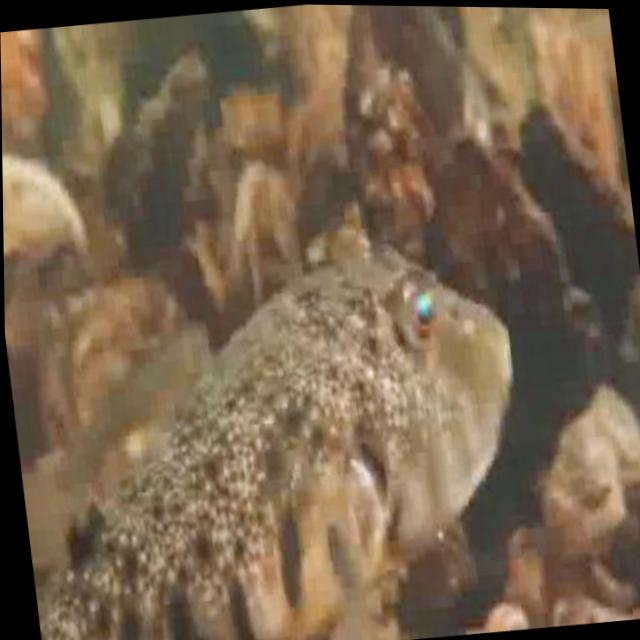Oyster-Closed: (40, 273, 188, 439)
Oyster-Indeterminate: (122, 50, 209, 261), (544, 382, 637, 550), (351, 64, 429, 262), (225, 161, 307, 319), (2, 157, 85, 268), (405, 519, 475, 625), (621, 435, 640, 522)
Oyster-Open: (432, 101, 639, 449)
